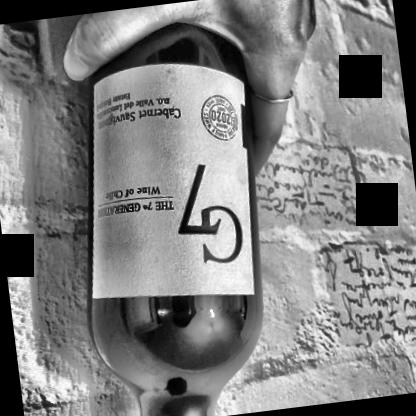G7: (66, 53, 262, 318)
